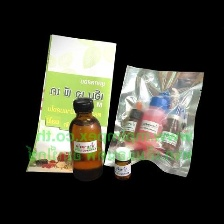book: (24, 29, 120, 175)
insecticide: (66, 94, 108, 187), (135, 94, 169, 152), (158, 111, 185, 156), (118, 106, 144, 144), (111, 144, 135, 183)
